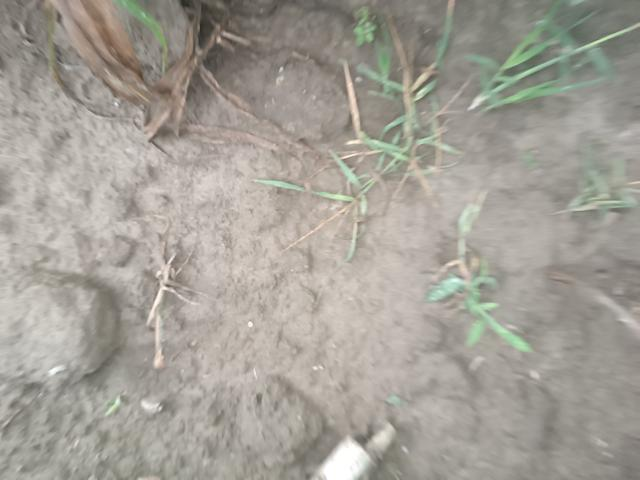bad weed: (285, 81, 463, 222), (418, 223, 558, 379), (480, 10, 615, 106), (554, 148, 640, 232), (348, 13, 384, 55), (96, 393, 129, 417)
